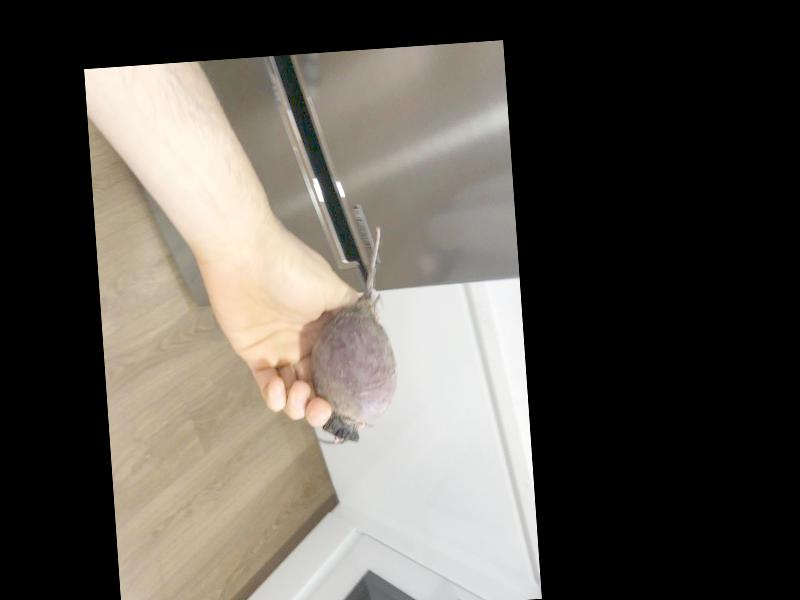Beet: (302, 227, 401, 447)
